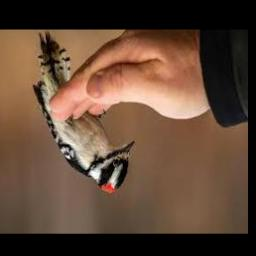Woodpecker: (33, 30, 135, 195)
